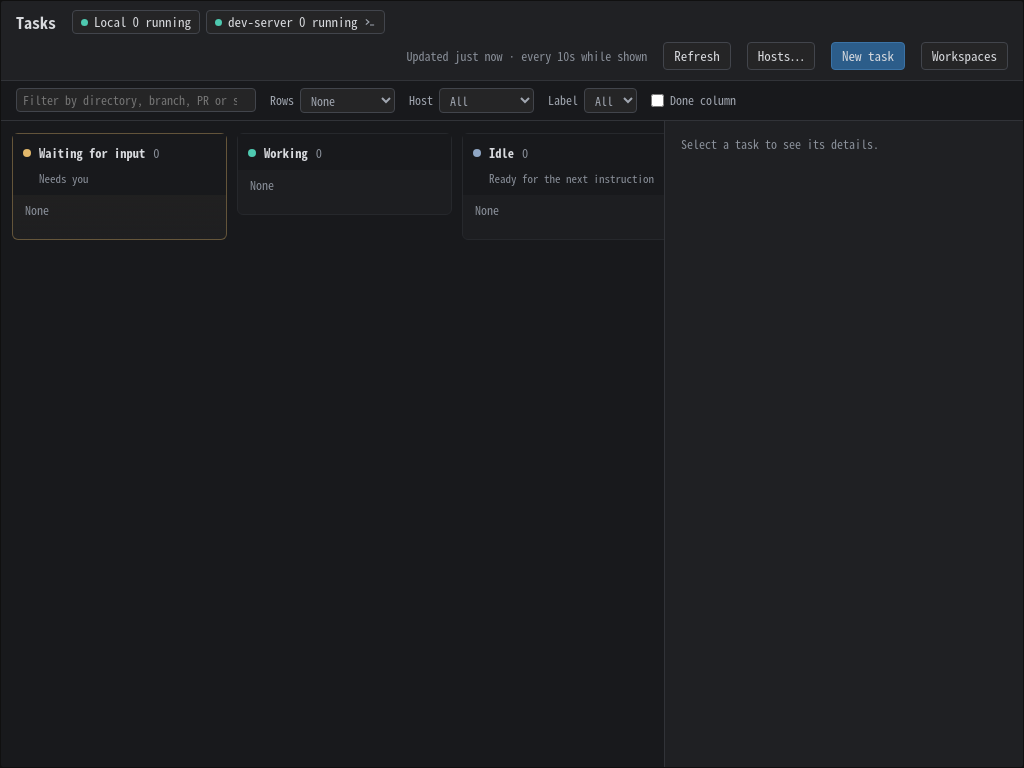
Test case: TaskDashboard host menu Codex input notifications (issue #396) › lists the hook in a remote host's terminal menu
Click the button with aria-label "Open a terminal on dev-server" at (295, 22), box 206,10 -> 384,34
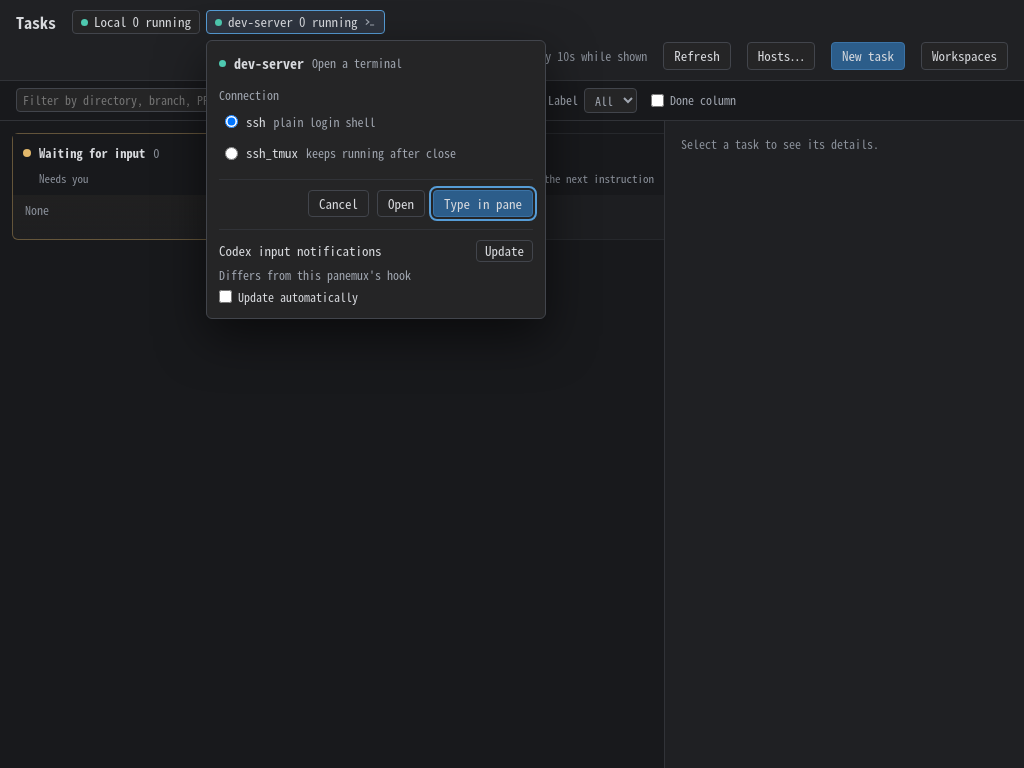
Check: the button with aria-label "Update Codex input notifications on dev-server" is shown, box 476,240 -> 533,262
